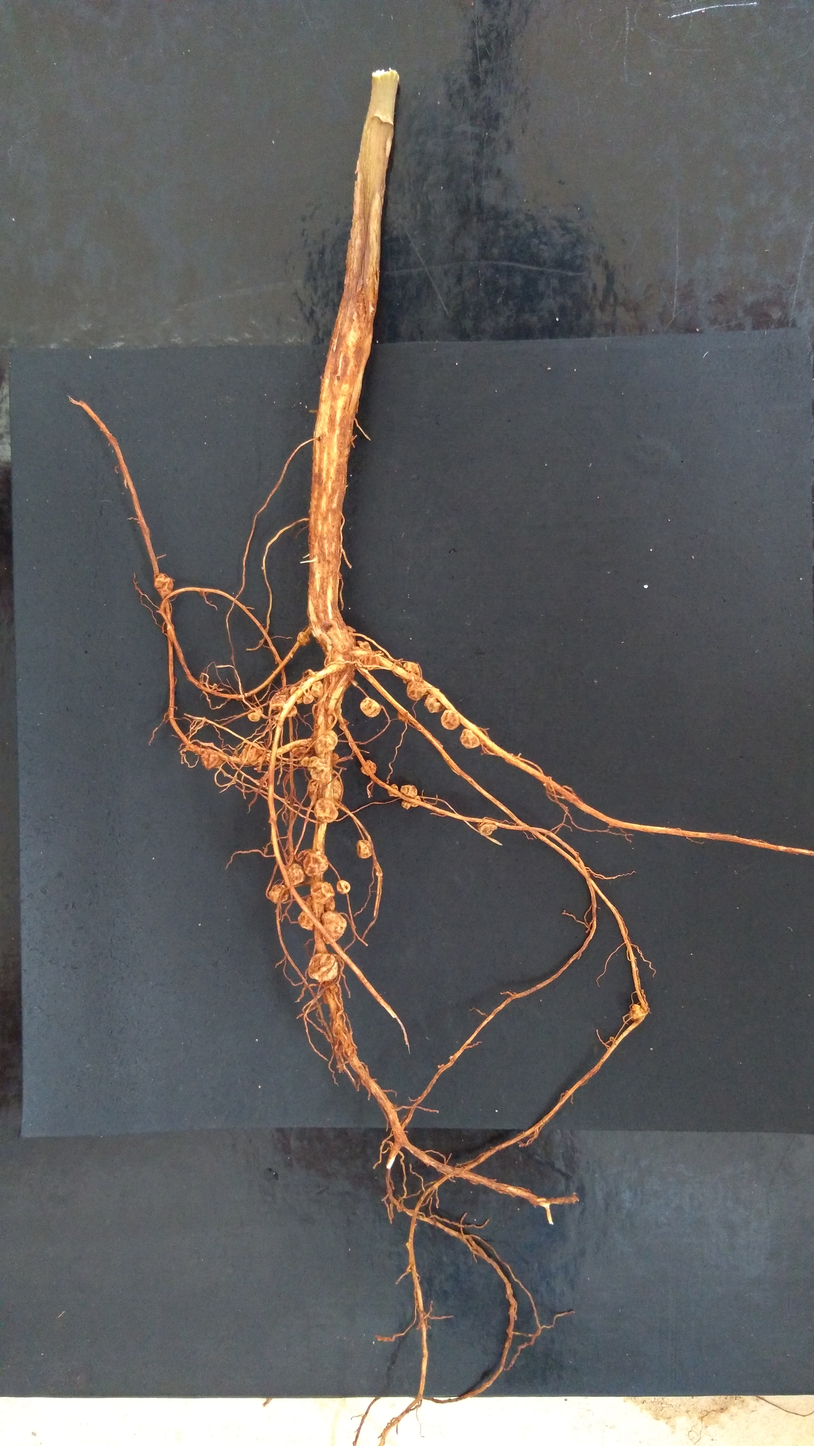nodule: (307, 953, 339, 982), (297, 848, 329, 876), (321, 910, 346, 944), (238, 742, 267, 766), (317, 776, 342, 803), (314, 797, 339, 823), (301, 755, 328, 779), (308, 881, 335, 903), (315, 730, 338, 754), (201, 747, 225, 770), (284, 861, 307, 885), (154, 573, 174, 597), (459, 728, 483, 748), (424, 691, 445, 713), (440, 709, 461, 730), (402, 661, 421, 684), (359, 651, 380, 671), (406, 680, 426, 701), (360, 697, 381, 717), (297, 908, 316, 930), (291, 741, 314, 759), (268, 884, 289, 902), (299, 679, 314, 704), (269, 690, 287, 710), (356, 839, 374, 858), (306, 779, 322, 799), (477, 821, 498, 836), (360, 759, 376, 777), (355, 640, 372, 655), (629, 1004, 646, 1019), (336, 879, 351, 895), (290, 686, 303, 704), (400, 784, 418, 797), (311, 680, 323, 698), (248, 707, 262, 722), (297, 631, 310, 646), (313, 709, 324, 726), (324, 896, 335, 912), (284, 705, 297, 718), (305, 895, 315, 911), (397, 710, 411, 721), (410, 794, 421, 808), (388, 784, 398, 797), (401, 799, 411, 809), (183, 744, 193, 753), (332, 751, 340, 761), (330, 984, 338, 993), (326, 708, 335, 716), (322, 992, 328, 1004), (436, 1064, 445, 1069)
